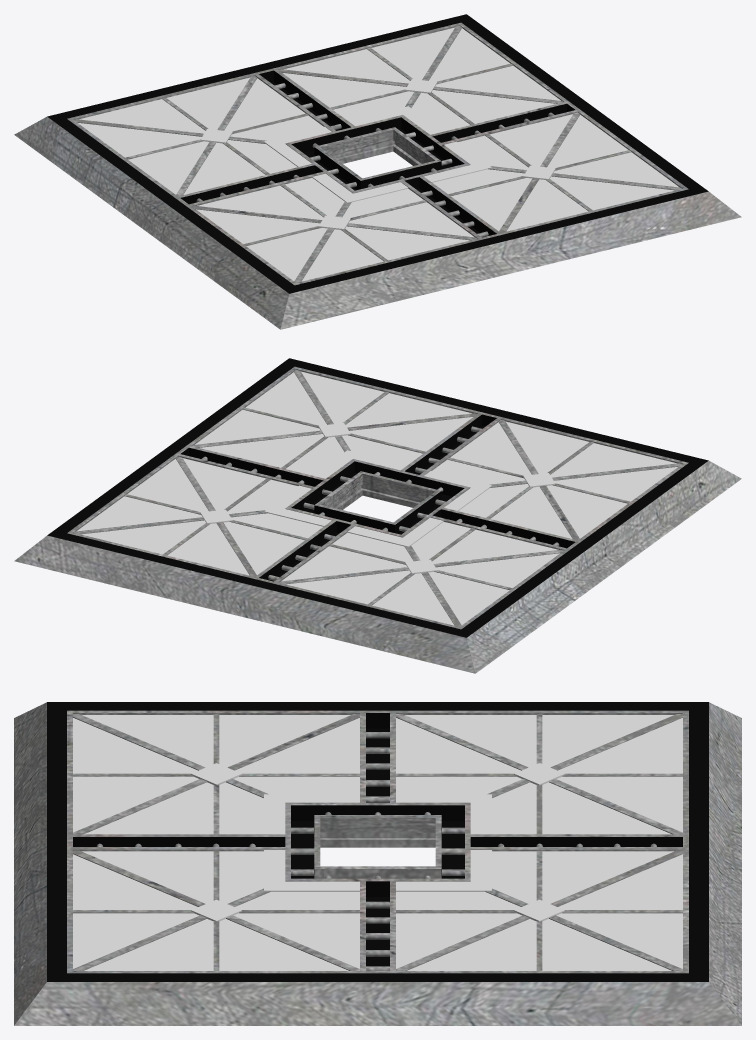
File: WallHyper.fbx
3 renders of one model, top to bottom at view 1: azimuth 30°, elevation 25°; view 2: azimuth 150°, elevation 25°; view 3: azimuth 270°, elevation 25°, orthographic. The views are drawn at different scales.
Visible parts, largest first — view 1: light, wall, frame, front, ramp; view 2: light, wall, frame, front, ramp; view 3: light, wall, frame, front, ramp.
Part boxes in pixels (box(x1,y1,x2,y2)): light: box(77, 27, 678, 281); wall: box(14, 22, 741, 329); frame: box(47, 14, 708, 293); front: box(200, 79, 555, 229); ramp: box(196, 83, 554, 237); light: box(77, 371, 678, 625); wall: box(14, 366, 741, 673); frame: box(47, 358, 708, 637); front: box(200, 423, 555, 573); ramp: box(201, 426, 559, 580); light: box(73, 715, 682, 970); wall: box(14, 702, 741, 1025); frame: box(47, 702, 708, 981); front: box(191, 763, 564, 921); ramp: box(96, 732, 656, 970).
Bounding box in the file's own units: 220 × 10 × 220.
